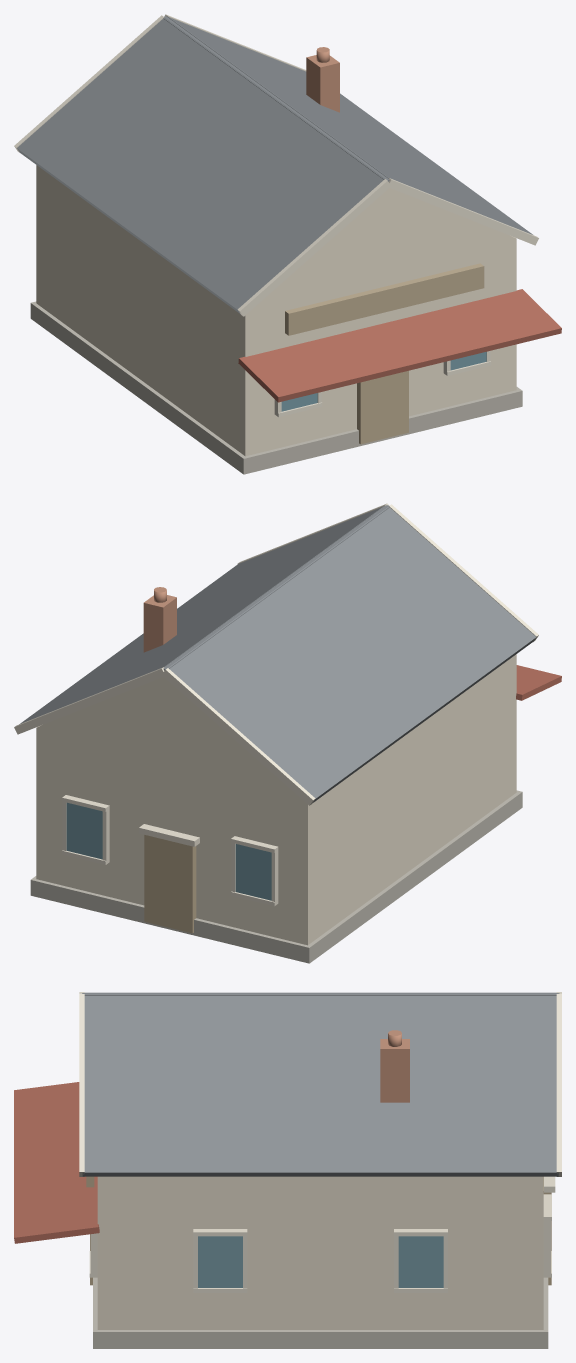
The model's file is rhine-shop_lod1.glb.
3 views of the same model, one above another, from view 1: azimuth 30°, elevation 25°; view 2: azimuth 150°, elevation 25°; view 3: azimuth 270°, elevation 25° (orthographic). The views are drawn at different scales.
Parts seen in each view (by area): view 1: RF_Roof.001, RF_Body, RF_ShopAwning, RF_Gable, RF_Roof, RF_Foundation, RF_ShopSign, RF_Door.001, RF_Vergeband.001, RF_Chimney, RF_Vergeband.003, RF_Ridge (+1 smaller); view 2: RF_Body, RF_Roof.001, RF_Gable.001, RF_Roof, RF_Foundation, RF_Door, RF_Vergeband.002, RF_Window.004, RF_Window.003, RF_Chimney, RF_Vergeband, RF_Ridge (+3 smaller); view 3: RF_Roof, RF_Body, RF_ShopAwning, RF_Foundation, RF_Window, RF_Window.005, RF_Ridge, RF_Chimney, RF_Vergeband.003, RF_Vergeband, RF_WindowFrame.008, RF_Roof.001.
Part boxes in pixels (x1=…): RF_Roof.001: x1=17, y1=17, x2=384, y2=314; RF_Body: x1=36, y1=165, x2=516, y2=456; RF_ShopAwning: x1=238, y1=289, x2=561, y2=402; RF_Gable: x1=262, y1=188, x2=516, y2=300; RF_Roof: x1=166, y1=16, x2=532, y2=234; RF_Foundation: x1=30, y1=301, x2=522, y2=474; RF_ShopSign: x1=285, y1=263, x2=484, y2=335; RF_Door.001: x1=357, y1=370, x2=408, y2=444; RF_Vergeband.001: x1=237, y1=179, x2=390, y2=316; RF_Chimney: x1=306, y1=55, x2=339, y2=112; RF_Vergeband.003: x1=388, y1=178, x2=538, y2=245; RF_Ridge: x1=163, y1=16, x2=389, y2=181; RF_Body: x1=36, y1=654, x2=516, y2=945; RF_Roof.001: x1=168, y1=506, x2=536, y2=802; RF_Gable.001: x1=37, y1=677, x2=290, y2=789; RF_Roof: x1=19, y1=505, x2=386, y2=724; RF_Foundation: x1=30, y1=790, x2=522, y2=963; RF_Door: x1=144, y1=835, x2=196, y2=933; RF_Vergeband.002: x1=162, y1=668, x2=315, y2=805; RF_Window.004: x1=66, y1=802, x2=102, y2=859; RF_Window.003: x1=235, y1=844, x2=271, y2=900; RF_Chimney: x1=143, y1=595, x2=176, y2=652; RF_Vergeband: x1=14, y1=667, x2=164, y2=734; RF_Ridge: x1=163, y1=505, x2=389, y2=670; RF_Roof: x1=82, y1=994, x2=558, y2=1176; RF_Body: x1=97, y1=1176, x2=543, y2=1329; RF_ShopAwning: x1=14, y1=1082, x2=99, y2=1243; RF_Foundation: x1=93, y1=1277, x2=548, y2=1348; RF_Window: x1=398, y1=1236, x2=443, y2=1287; RF_Window.005: x1=198, y1=1236, x2=242, y2=1287; RF_Ridge: x1=82, y1=992, x2=559, y2=995; RF_Chimney: x1=380, y1=1039, x2=409, y2=1102; RF_Vergeband.003: x1=79, y1=994, x2=84, y2=1176; RF_Vergeband: x1=556, y1=994, x2=561, y2=1176; RF_WindowFrame.008: x1=543, y1=1215, x2=550, y2=1277; RF_Roof.001: x1=83, y1=993, x2=558, y2=993.
Bounding box in the file's own units: 9.93 × 8.47 × 14.74.
